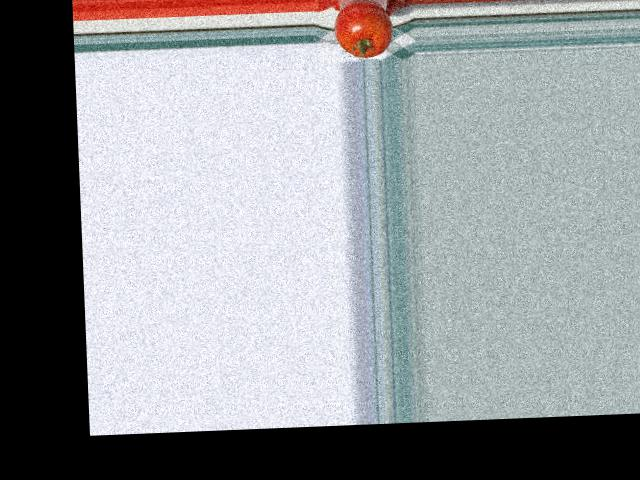tomato: (332, 1, 393, 59)
